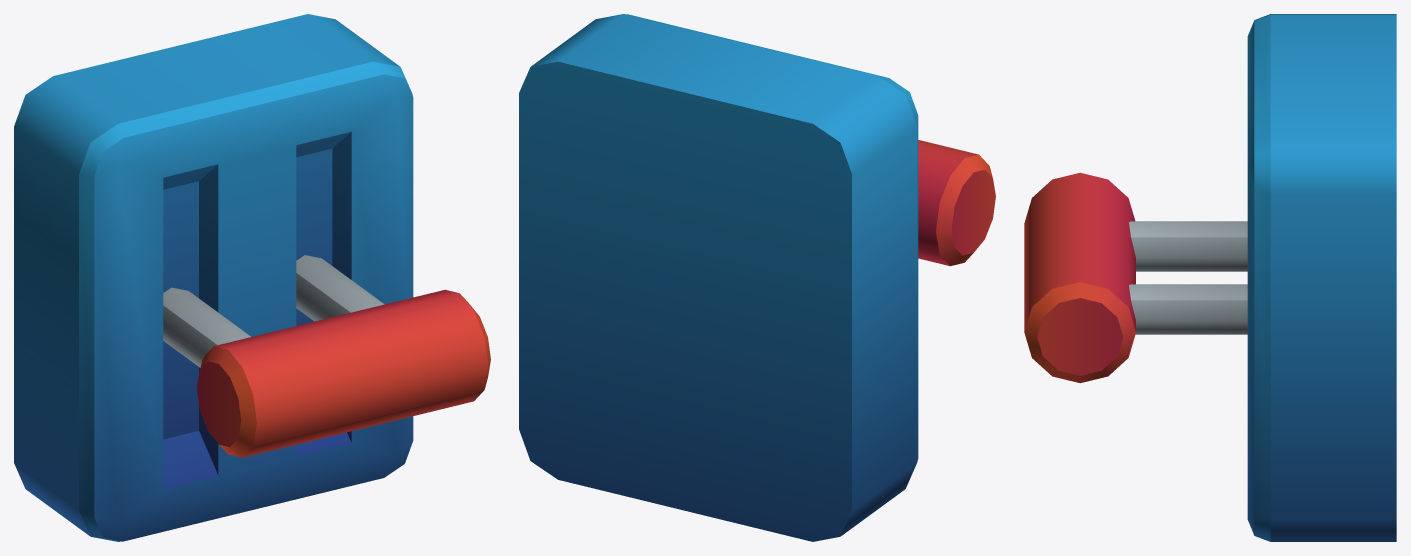
Rendered from lever_wall_base_B_blue.glb.
3 views of the same model, side by side, from view 1: azimuth 30°, elevation 25°; view 2: azimuth 150°, elevation 25°; view 3: azimuth 270°, elevation 25° (orthographic). The views are drawn at different scales.
Visible parts, largest first — view 1: lever_wall_base_B_blue, lever_wall_B_blue; view 2: lever_wall_base_B_blue, lever_wall_B_blue; view 3: lever_wall_base_B_blue, lever_wall_B_blue.
Part boxes in pixels (x1,y1,x2,y2): lever_wall_base_B_blue: (14, 14, 413, 541); lever_wall_B_blue: (163, 255, 490, 457); lever_wall_base_B_blue: (519, 14, 918, 541); lever_wall_B_blue: (918, 140, 995, 266); lever_wall_base_B_blue: (1247, 14, 1396, 541); lever_wall_B_blue: (1024, 172, 1247, 383).
Size of the model in its own units: 1 by 1.2 by 1.
Materials: 1 (1 with a texture image).
